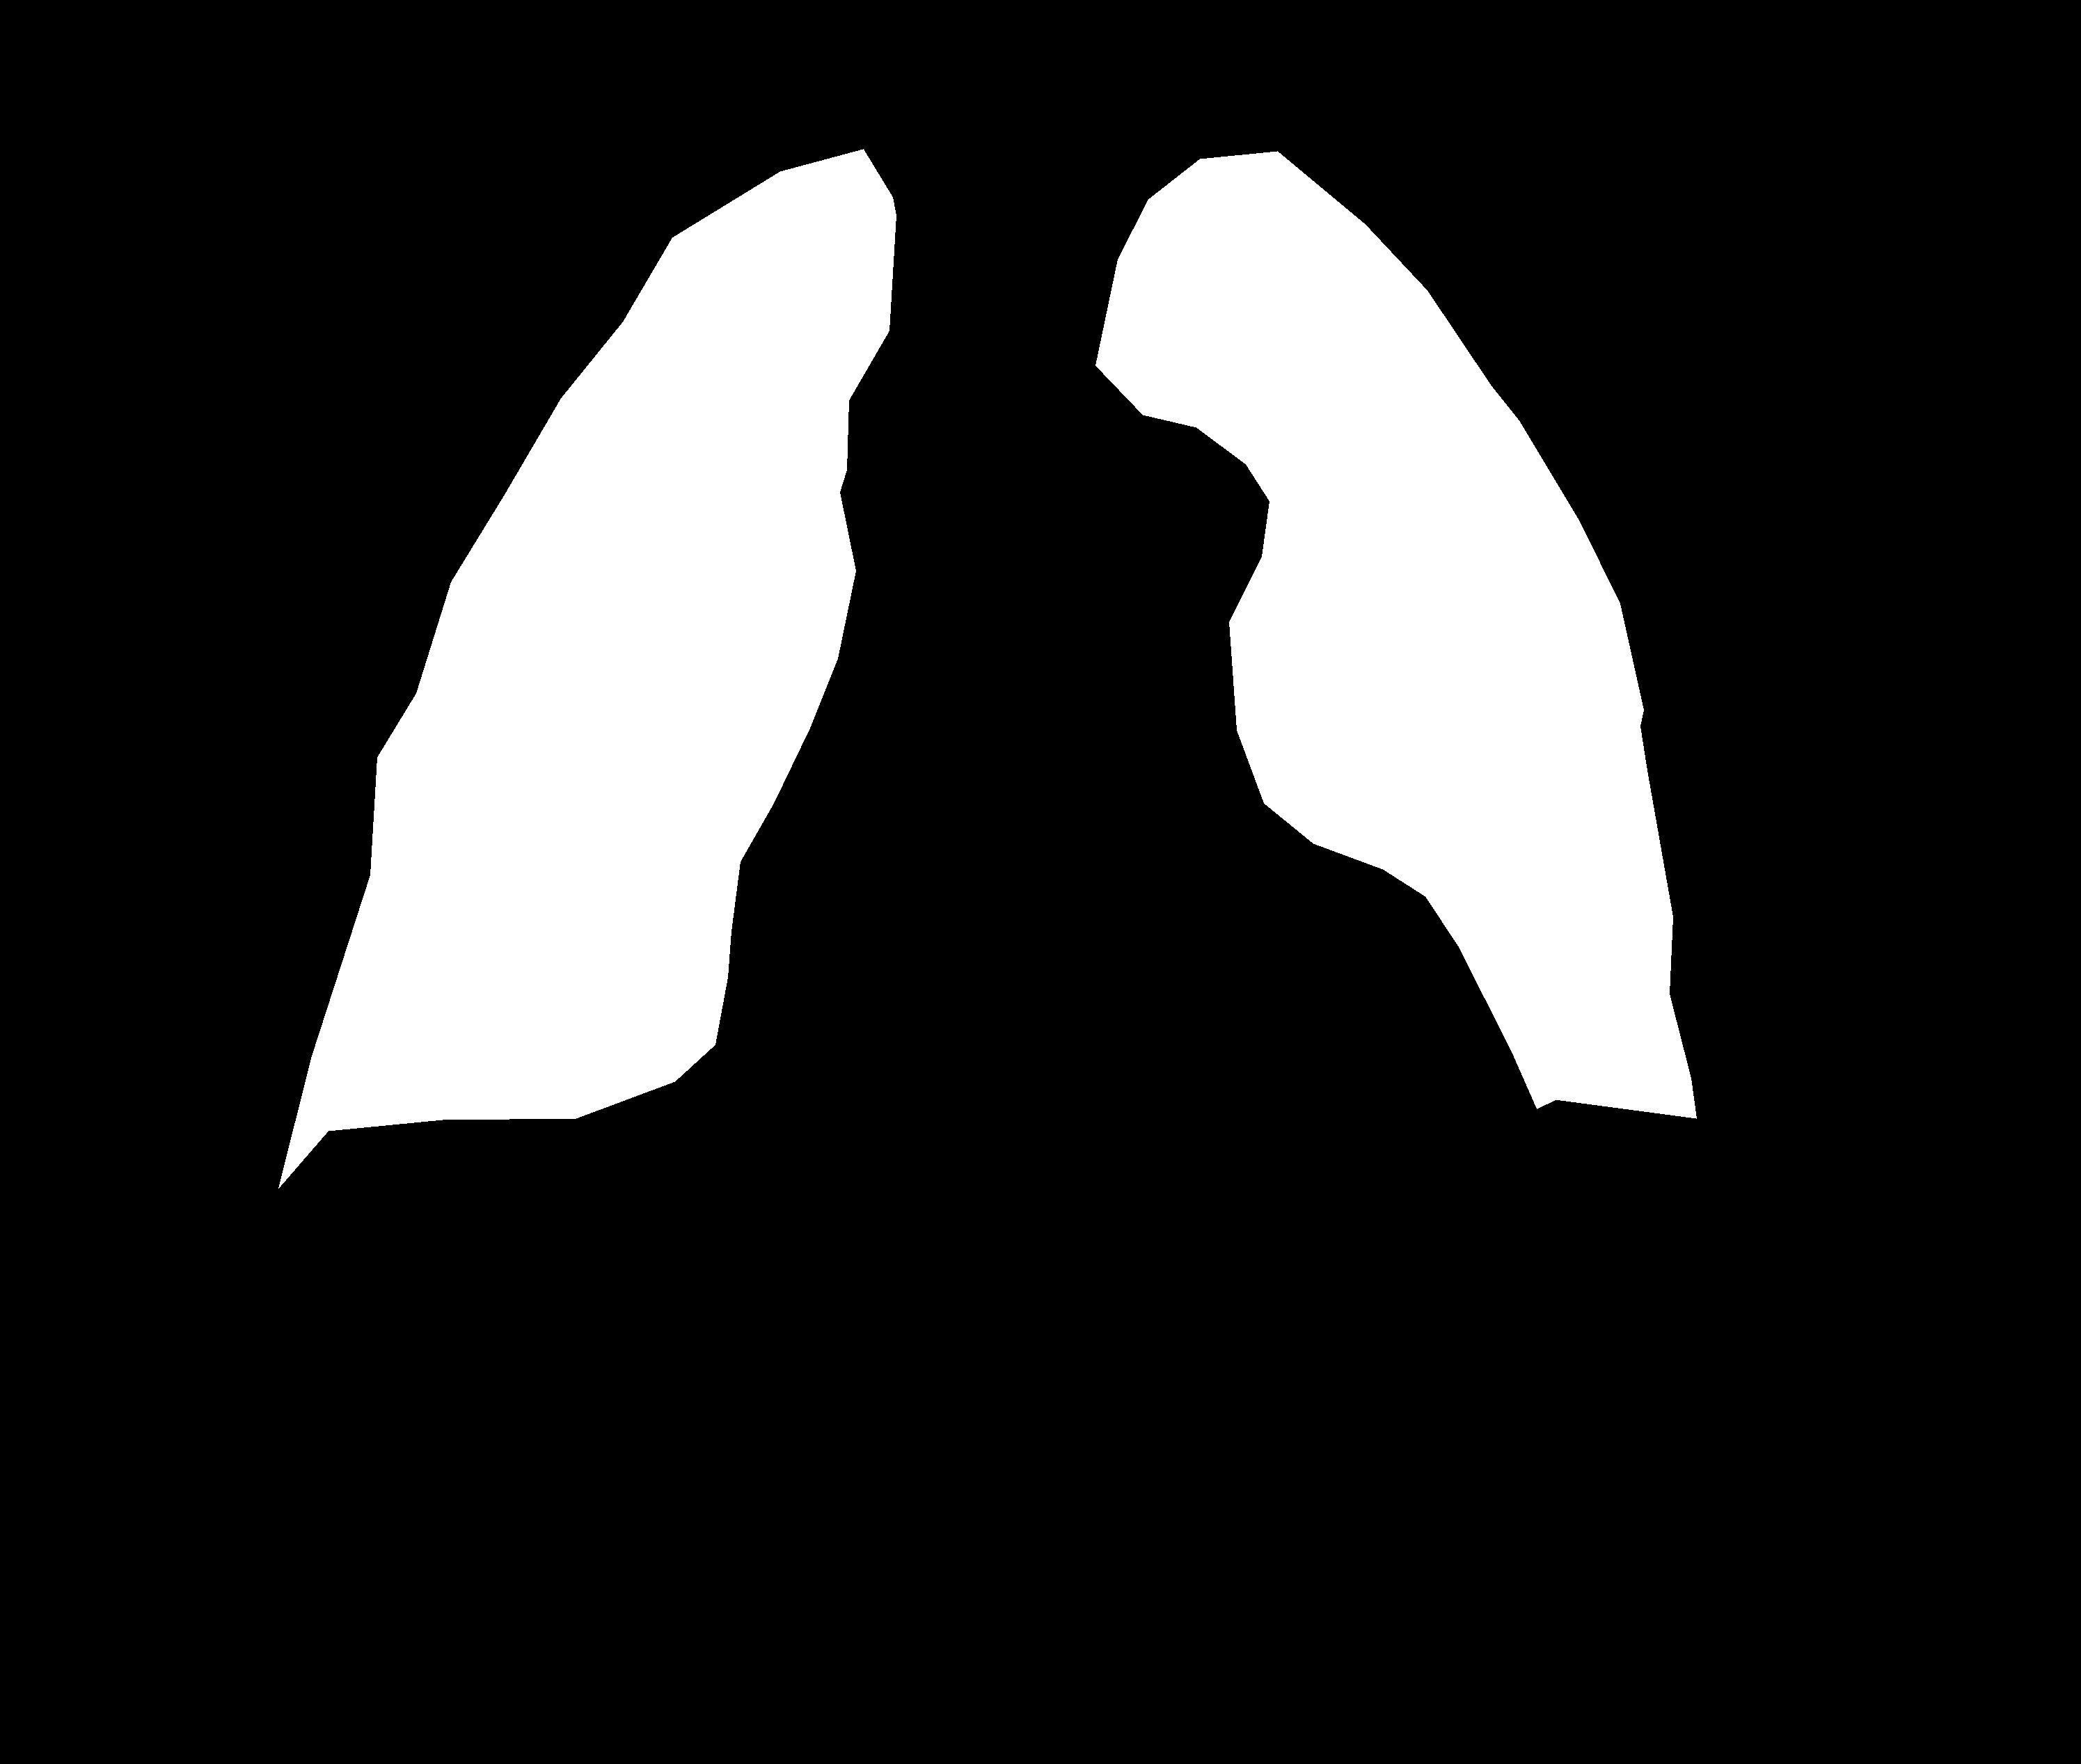heart: (677, 632, 1556, 1325)
left_lung: (278, 149, 896, 1188)
right_lung: (1096, 150, 1696, 1118)
